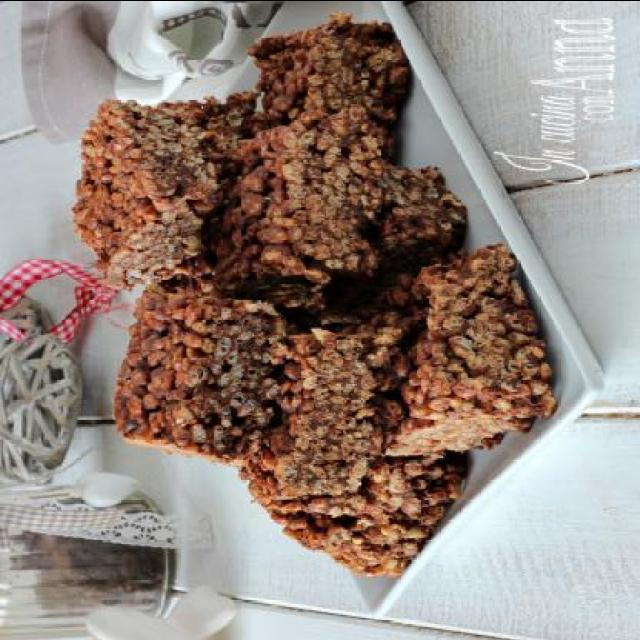Cereal bar packaged: (227, 290, 396, 496), (56, 90, 224, 296), (380, 246, 546, 449), (207, 127, 373, 298), (112, 300, 280, 466)
